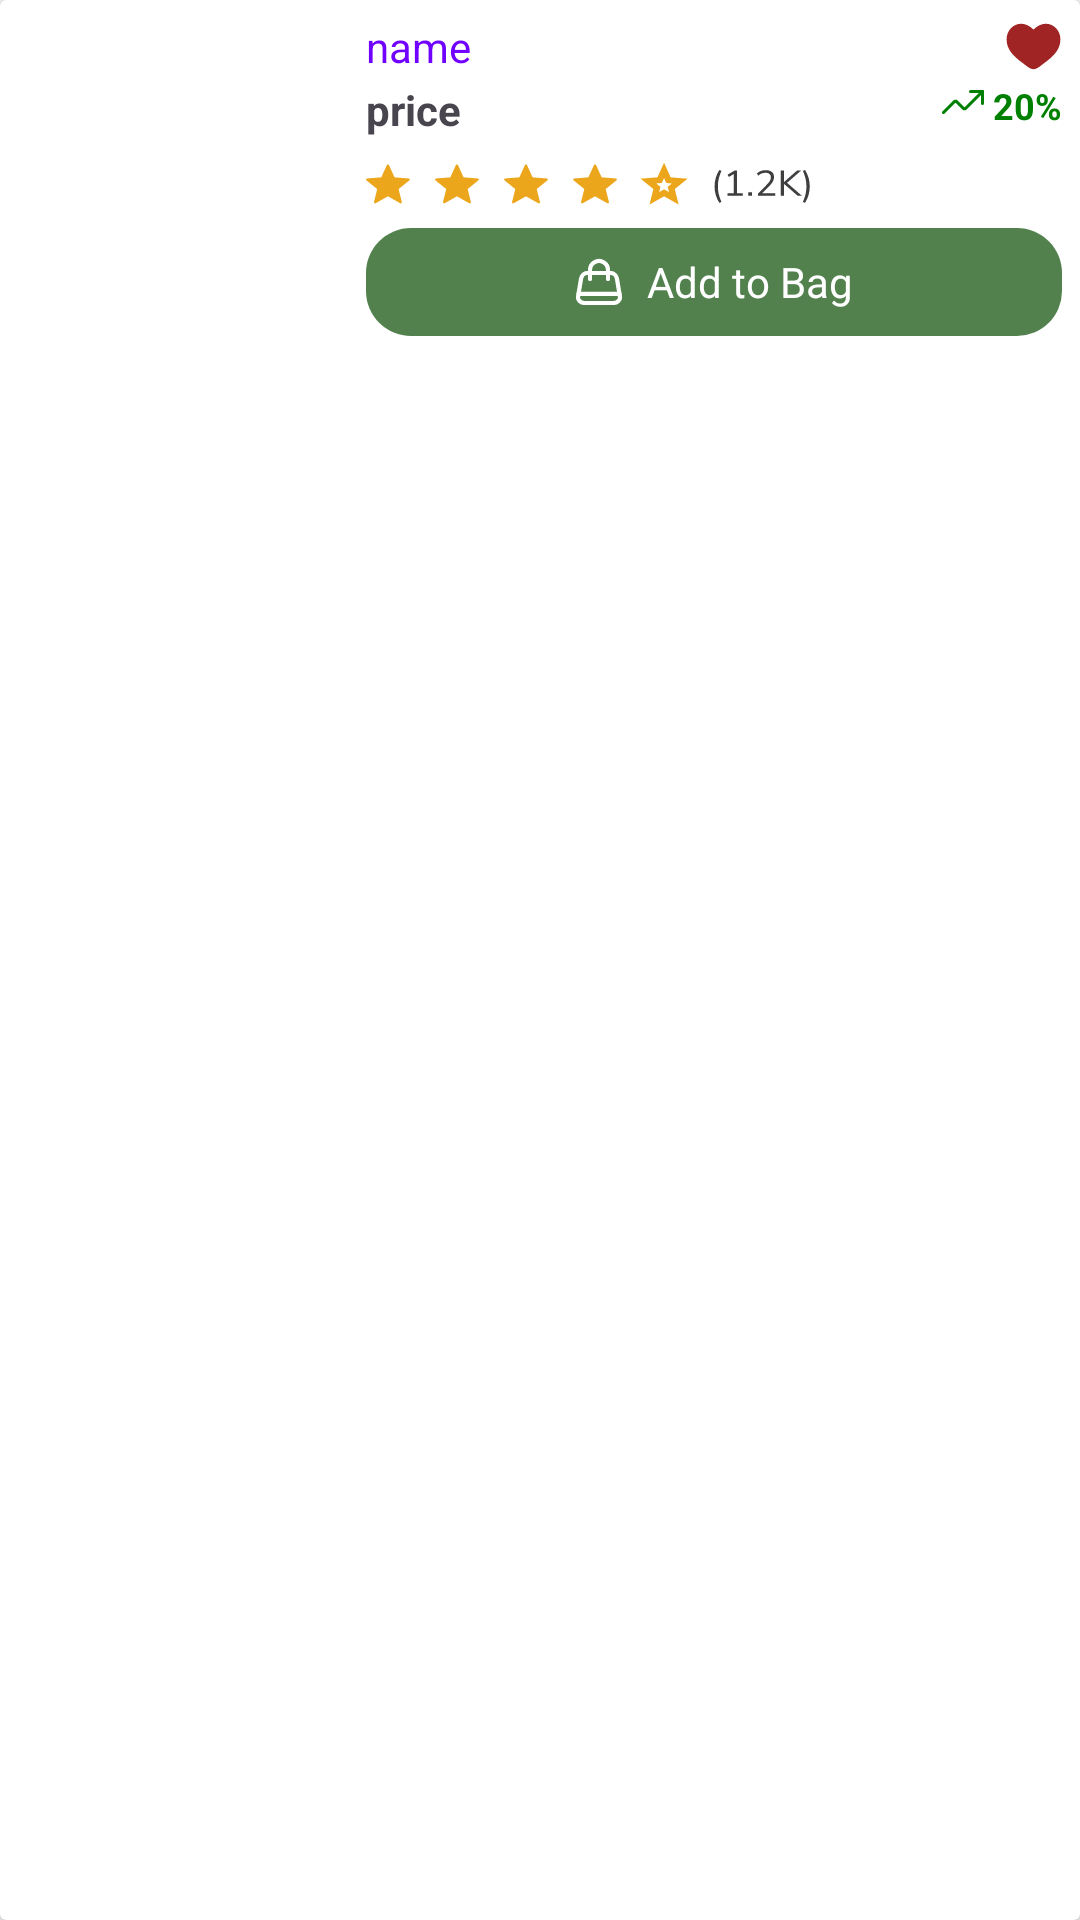

Screen size 1080×1920. Icon name, then its box in pixels as (x1, y1, x2, y2):
galabag: (576, 258, 622, 305)
up arrow: (942, 90, 984, 114)
